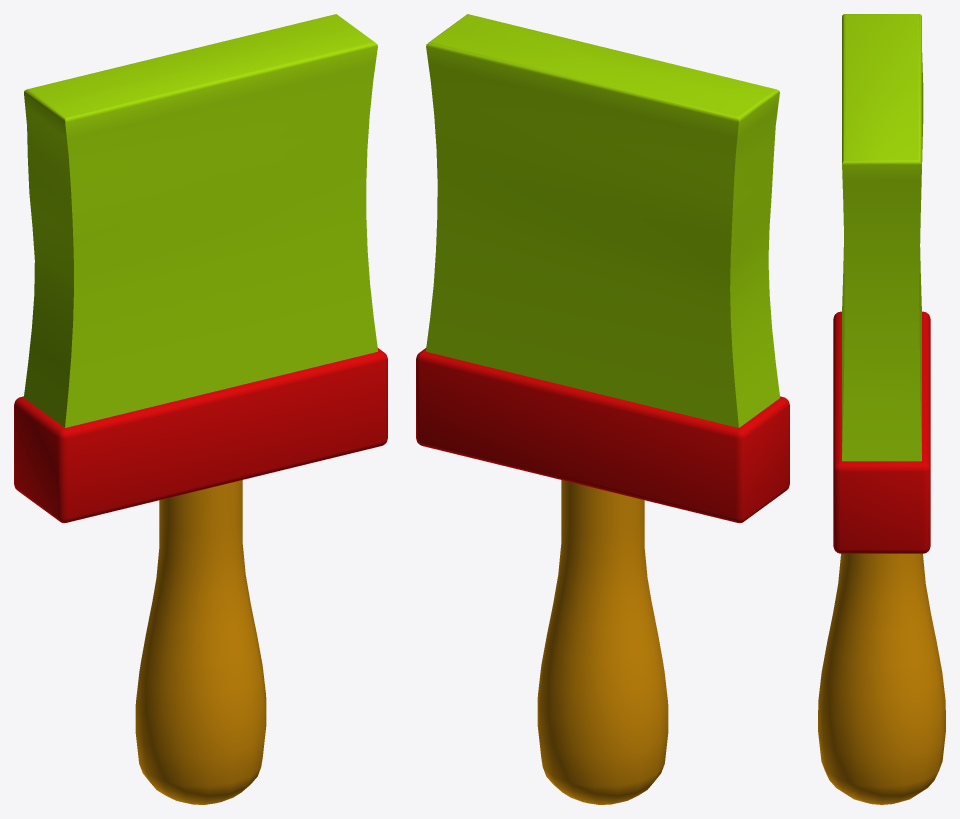
Rendered from PaintBrush.fbx.
3 renders of one model, left to right at view 1: azimuth 30°, elevation 25°; view 2: azimuth 150°, elevation 25°; view 3: azimuth 270°, elevation 25°, orthographic. The views are drawn at different scales.
Visible parts, largest first — view 1: BrushBristles, BrushHandle; view 2: BrushBristles, BrushHandle; view 3: BrushHandle, BrushBristles.
Boxes of the visible parts, x1,y1,x2,y2 form: BrushBristles: [18, 14, 383, 431]; BrushHandle: [14, 348, 387, 804]; BrushBristles: [420, 14, 785, 430]; BrushHandle: [416, 348, 789, 804]; BrushHandle: [818, 311, 945, 804]; BrushBristles: [837, 14, 926, 464].
Bounding box in the file's own units: 13.05 × 27.77 × 4.52.
